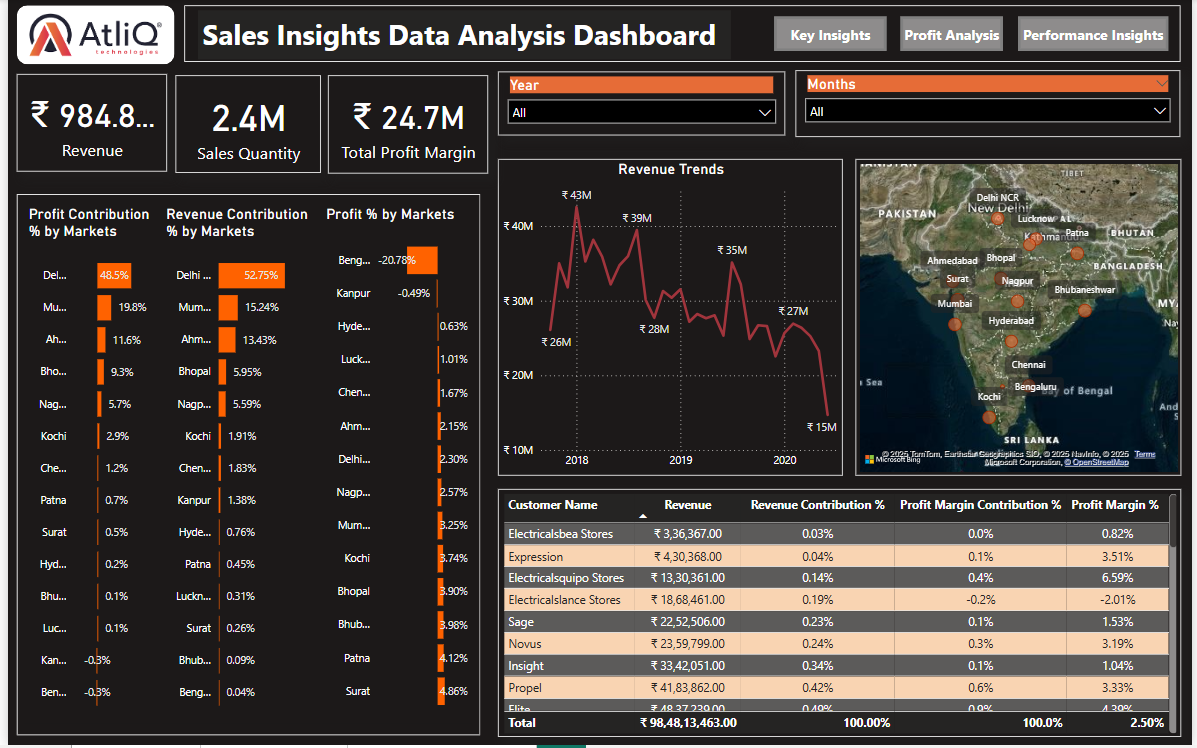

Layout of this report page (visuals, bound fields, positions):
{"tool":"powerbi","page":{"name":"Profit Analysis","canvas":[1350,850],"ordinal":1},"visuals":[{"type":"shape","box":[9.8,222,528.3,616.8],"z":0},{"type":"card","fields":{"Values":["keymeasure.Revenue"]},"box":[9.8,85.7,171.4,111],"z":1000},{"type":"card","fields":{"Values":["keymeasure.sales quntity"]},"box":[191.1,87.1,165.8,111],"z":2000},{"type":"barChart","title":"Revenue Contribution % by Markets","fields":{"Y":["keymeasure.Revenue Contribution %"],"Category":["sales markets.markets_name"]},"box":[175.6,234.6,181.2,590.1],"z":3000},{"type":"barChart","title":"Profit Contribution % by Markets","fields":{"Y":["keymeasure.Profit Margin Contribution %"],"Category":["sales markets.markets_name"]},"box":[18.3,234.6,154.5,590.1],"z":4000},{"type":"slicer","fields":{"Values":["sales date.year"]},"box":[559,82.9,327.4,73.1],"z":5000},{"type":"slicer","fields":{"Values":["sales date.cy_date"]},"box":[897.8,81.5,438.3,75.9],"z":6000},{"type":"lineChart","title":"Revenue Trends","fields":{"Y":["keymeasure.Revenue"],"Category":["sales date.cy_date"]},"box":[557.8,182.6,393,361.1],"z":7000},{"type":"barChart","title":"Profit % by Markets","fields":{"Y":["keymeasure.Profit Margin %"],"Category":["sales markets.markets_name"]},"box":[356.9,234.6,171.4,590.1],"z":8000},{"type":"card","fields":{"Values":["keymeasure.Total Profit Margin"]},"box":[365.3,87.1,182.6,112.4],"z":9000},{"type":"tableEx","fields":{"Values":["sales customers.custmer_name","keymeasure.Revenue","keymeasure.Revenue Contribution %","keymeasure.Profit Margin Contribution %","keymeasure.Profit Margin %"]},"box":[557.8,557.8,778.3,282.4],"z":10000},{"type":"map","title":"Profit Margin % by Markets Name","fields":{"Category":["sales markets.markets_name"],"Size":["keymeasure.Profit Margin %"]},"box":[965,182.6,370.9,361.1],"z":11000},{"type":"shape","box":[200.9,7,1135.2,64.6],"z":12000},{"type":"actionButton","box":[872.5,19.7,127.9,39.3],"z":13000},{"type":"actionButton","box":[1017.2,19.7,116.6,39.3],"z":14000},{"type":"actionButton","box":[1150.7,19.7,171.4,39.3],"z":15000},{"type":"shape","box":[9.8,7,179.8,67.4],"z":16000},{"type":"image","box":[14,7,171.4,67.4],"z":17000},{"type":"textbox","box":[216.4,12.6,606.9,56.2],"z":18000}]}

Visuals, with their boxes in screenshot pixels (x1, y1, x2, y2), scaled from the page's 1350x850 canvas onto the 1197x748 screenshot:
shape: BBox(9, 195, 477, 738)
card - keymeasure.Revenue: BBox(9, 75, 161, 173)
card - keymeasure.sales quntity: BBox(169, 77, 316, 174)
"Revenue Contribution % by Markets" barChart: BBox(156, 206, 316, 726)
"Profit Contribution % by Markets" barChart: BBox(16, 206, 153, 726)
slicer - sales date.year: BBox(496, 73, 786, 137)
slicer - sales date.cy_date: BBox(796, 72, 1185, 139)
"Revenue Trends" lineChart: BBox(495, 161, 843, 478)
"Profit % by Markets" barChart: BBox(316, 206, 468, 726)
card - keymeasure.Total Profit Margin: BBox(324, 77, 486, 176)
tableEx - sales customers.custmer_name x keymeasure.Revenue: BBox(495, 491, 1185, 739)
"Profit Margin % by Markets Name" map: BBox(856, 161, 1184, 478)
shape: BBox(178, 6, 1185, 63)
actionButton: BBox(774, 17, 887, 52)
actionButton: BBox(902, 17, 1005, 52)
actionButton: BBox(1020, 17, 1172, 52)
shape: BBox(9, 6, 168, 65)
image: BBox(12, 6, 164, 65)
textbox: BBox(192, 11, 730, 61)
